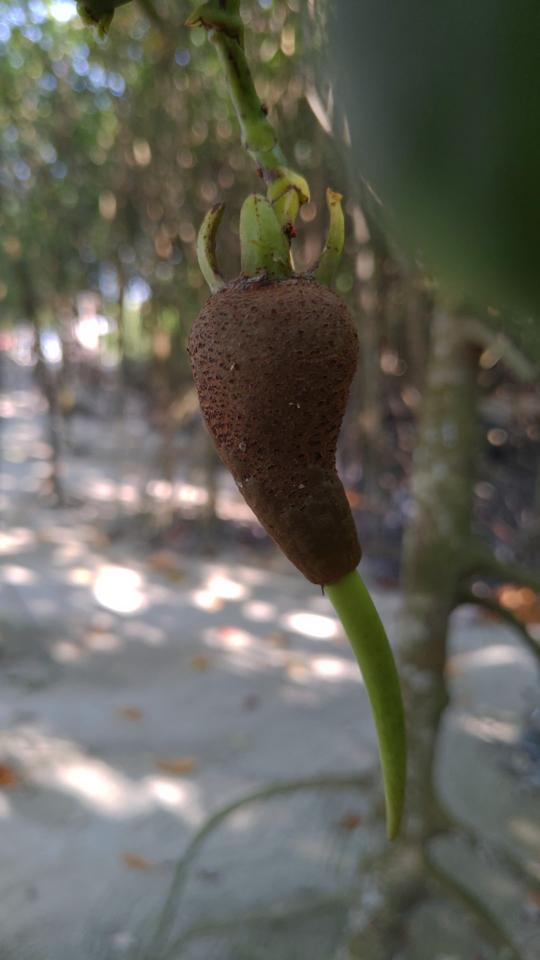mentah: (167, 173, 422, 864)
